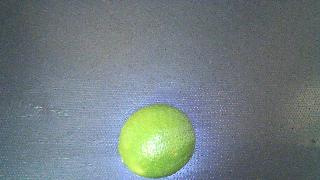EXPORTACION: (118, 104, 195, 178)
